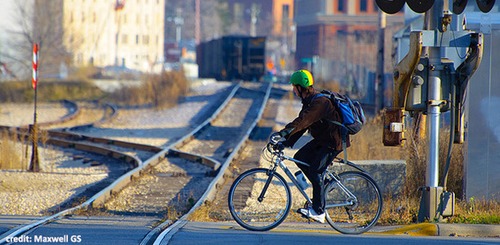bikerider: (221, 67, 387, 239)
